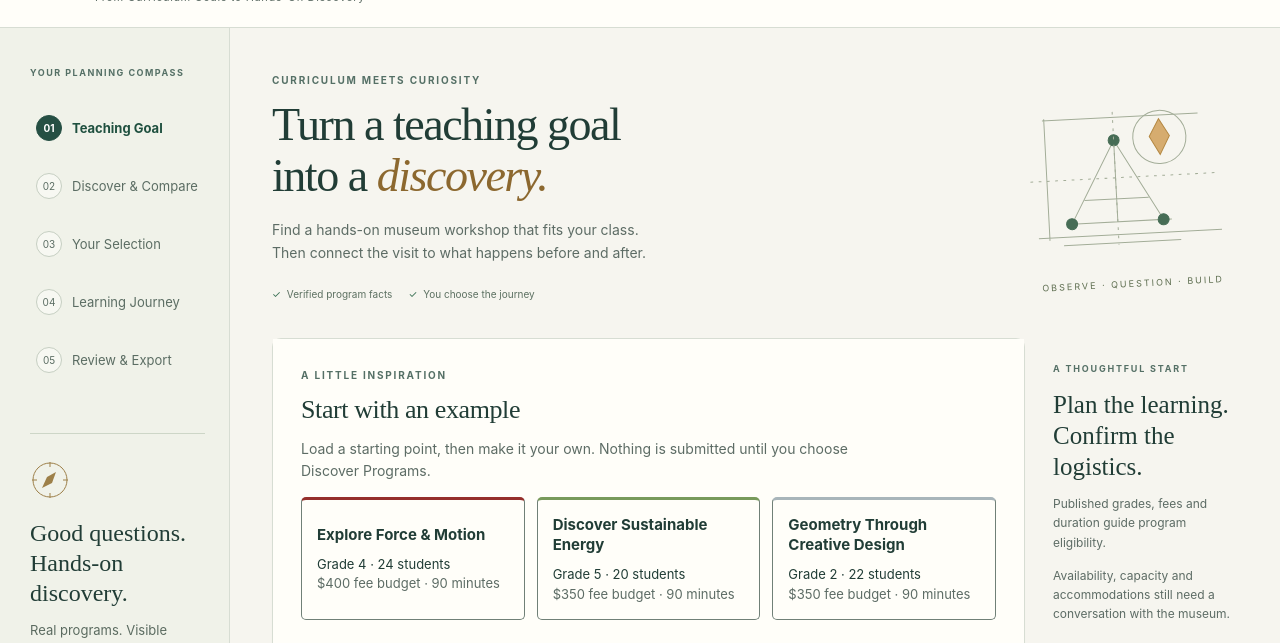
Scenario: clears example limits and goal to the ordinary starting state
The image size is (1280, 643).
Click the button with aria-label "Load Geometry Through Creative Design example" at (884, 558), box [772,497,996,620]
(page scrolled)
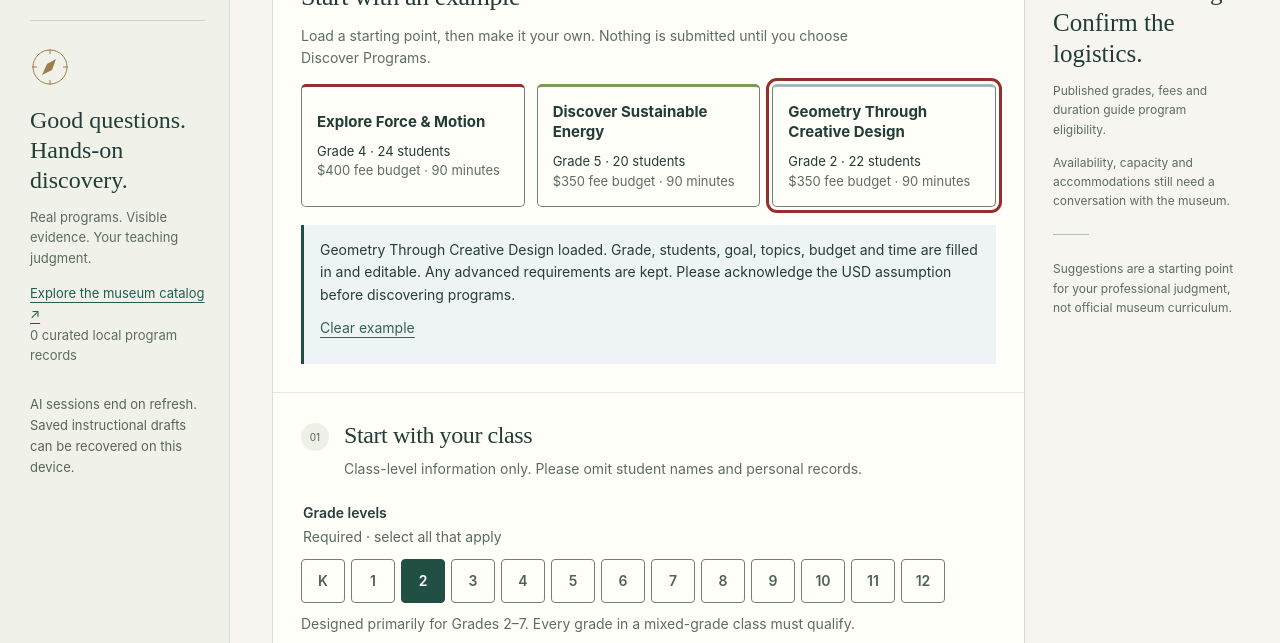
Click the button "Clear example" at (367, 328), box [320,306,415,350]
(page scrolled)
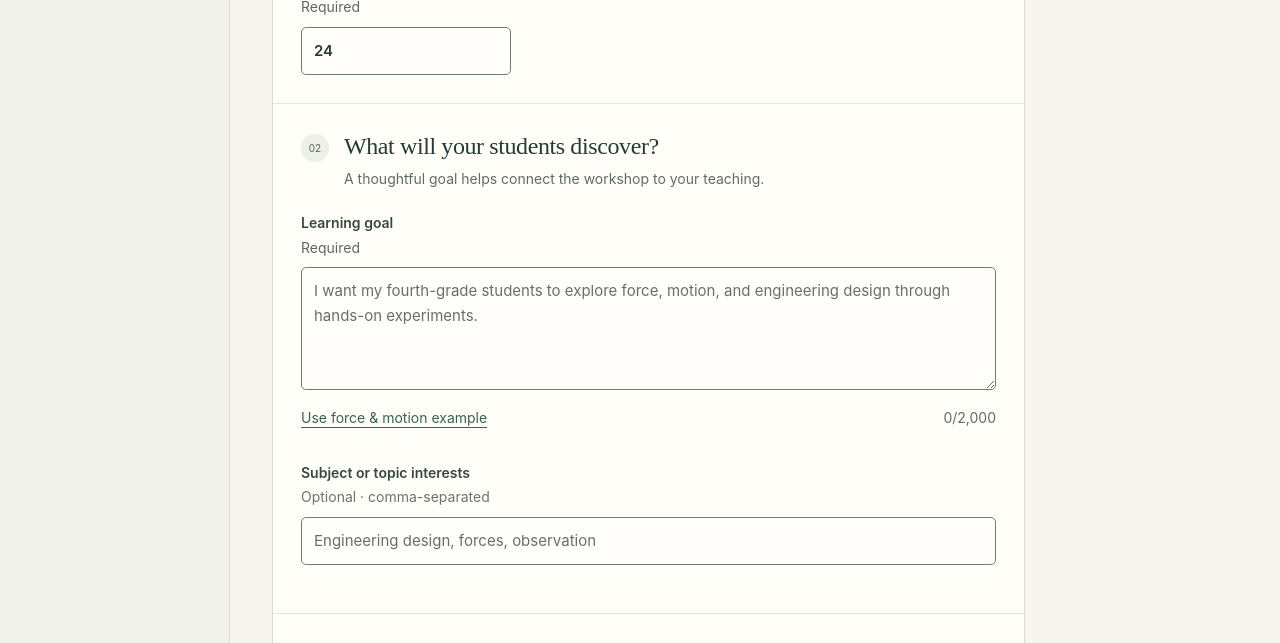
Expected: the text box labelled "Learning goal Required" is empty, [301,267,996,390]
